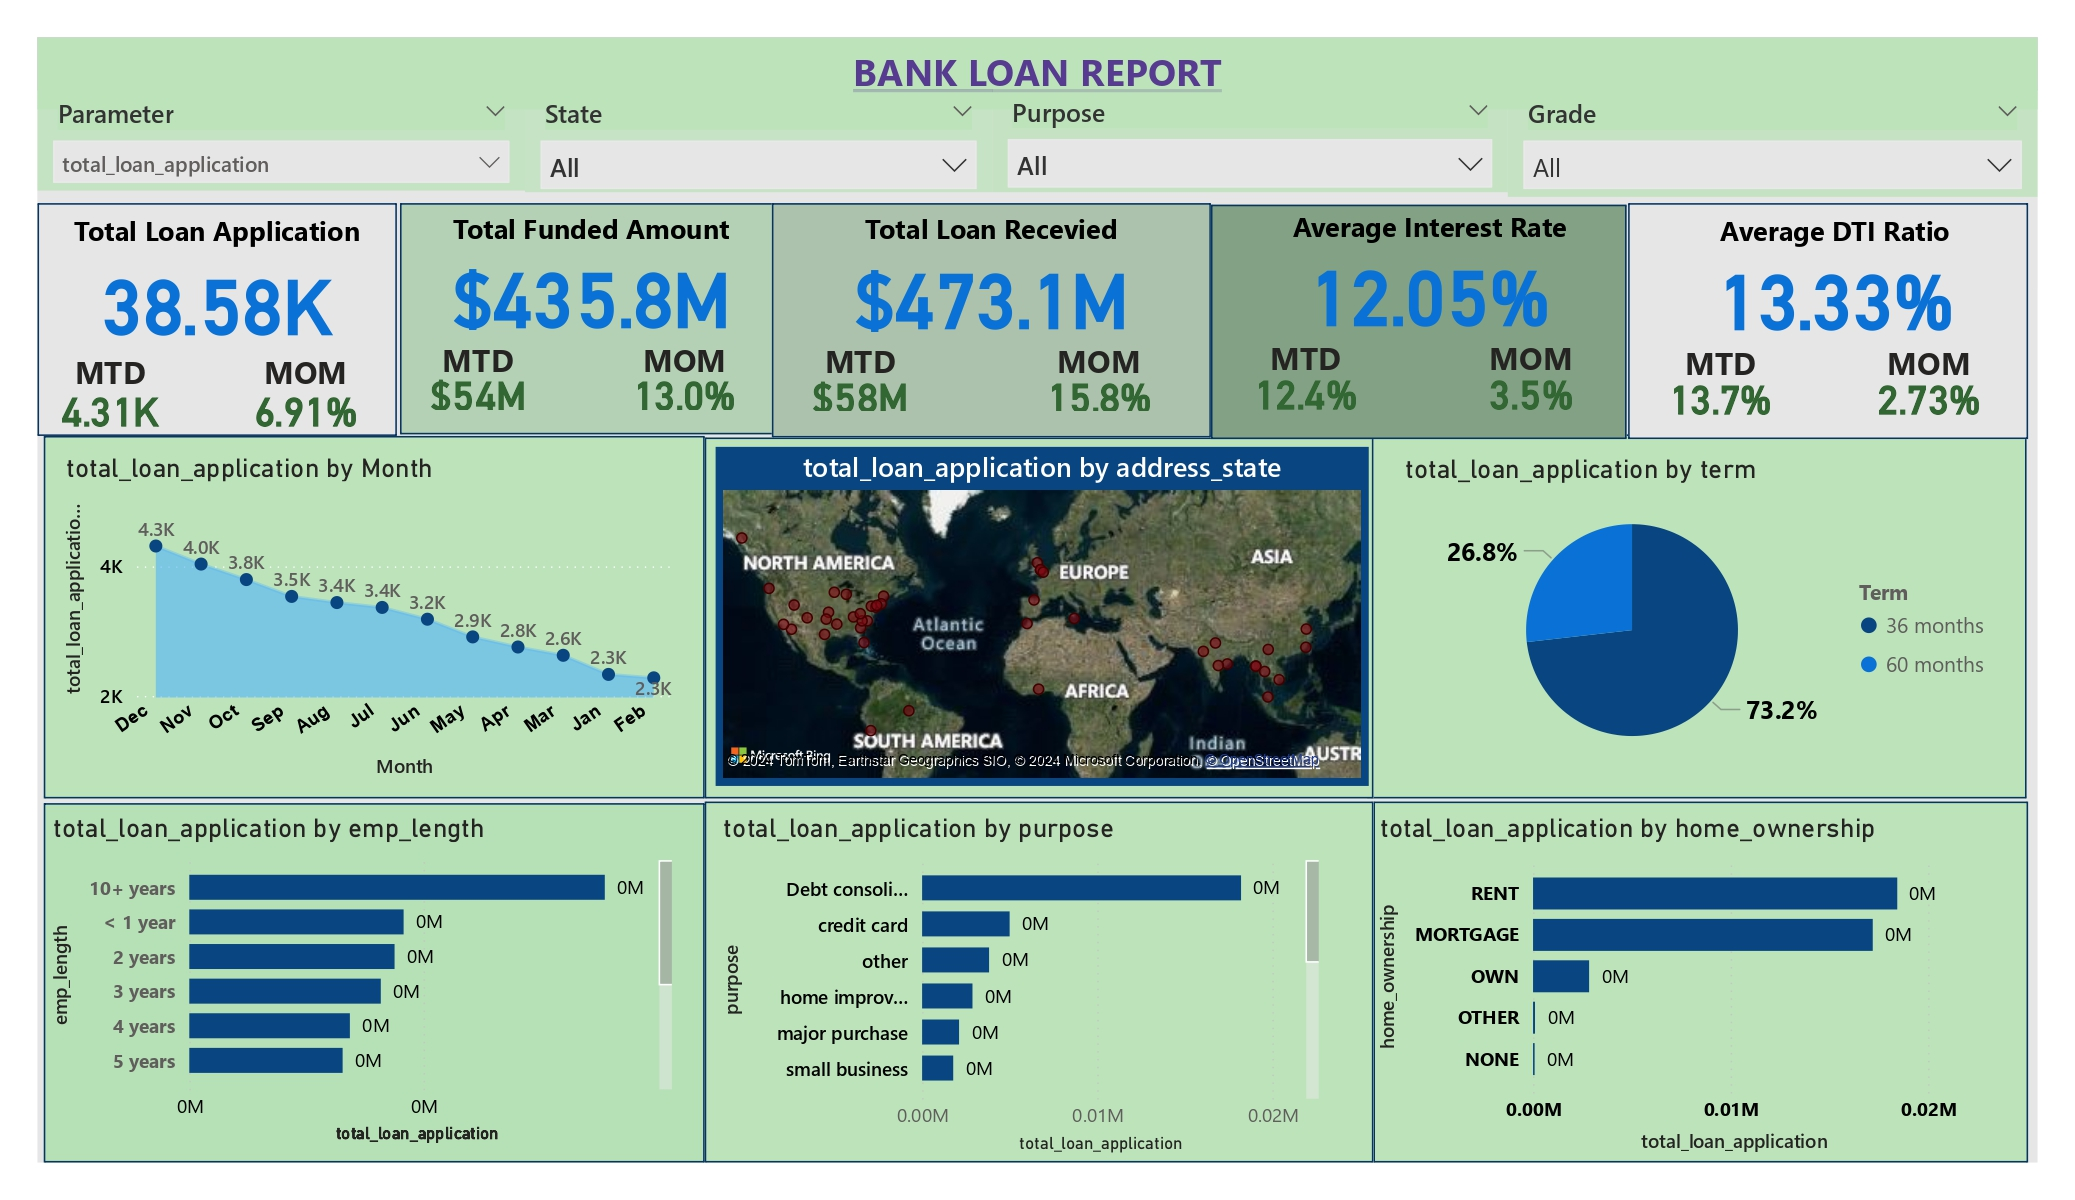

This screenshot's page, from the dashboard's own definition file:
{"tool":"powerbi","page":{"name":"Overview","canvas":[1280,720],"ordinal":1},"visuals":[{"type":"textbox","box":[0,0,1280.3,45.6],"z":0},{"type":"slicer","fields":{"Values":["Parameter.Parameter"]},"box":[0,32.2,311.9,65.5],"z":0,"group":"g3"},{"type":"group","id":"g1","title":"Group 7","box":[0,105.5,1274.6,614.1],"z":0,"group":"g2"},{"type":"shape","box":[0,105.5,229.9,149.5],"z":0,"group":"g4"},{"type":"shape","box":[851.4,253.7,421.6,233.2],"z":0,"group":"g8"},{"type":"group","id":"g2","title":"Group 9","box":[0,31.6,1280.3,688.1],"z":1000},{"type":"group","id":"g3","title":"Group 8","box":[0,31.6,1280.3,70.3],"z":1000,"group":"g2"},{"type":"shape","box":[232.1,105.5,242.8,148.4],"z":1000,"group":"g5"},{"type":"shape","box":[427.1,255.6,427.7,230.6],"z":1000,"group":"g8"},{"type":"shape","box":[470,105.5,280.9,149.5],"z":2000,"group":"g7"},{"type":"shape","box":[854.8,488.9,418.9,230.6],"z":2000,"group":"g8"},{"type":"shape","box":[750.5,106.9,266.3,149.5],"z":3000,"group":"g9"},{"type":"shape","box":[427.1,488.9,427.7,230.6],"z":3000,"group":"g8"},{"type":"shape","box":[1018.2,105.6,256.3,151],"z":4000,"group":"g6"},{"type":"shape","box":[3.7,489.1,423.3,230.6],"z":4000,"group":"g8"},{"type":"card","title":"Total Loan Application","fields":{"Values":["bank_loan_data.total_loan_application"]},"box":[10.4,110.1,209.9,89.1],"z":5000,"group":"g4"},{"type":"shape","box":[3.7,254.4,423.3,231.9],"z":5000,"group":"g8"},{"type":"slicer","fields":{"Values":["bank_loan_data.address_state"]},"box":[311.9,32.2,299.1,66.9],"z":6000,"group":"g3"},{"type":"group","id":"g4","title":"Group 1","box":[0,105.5,229.3,149.5],"z":6000,"group":"g8"},{"type":"card","title":"Total Funded Amount","fields":{"Values":["bank_loan_data.Total_fund_amount"]},"box":[243.9,109.7,221.6,82],"z":6000,"group":"g5"},{"type":"slicer","fields":{"Values":["bank_loan_data.grade"]},"box":[941.3,32.2,338.9,69.8],"z":7000,"group":"g3"},{"type":"group","id":"g5","title":"Group 2","box":[232.1,105.5,242.1,148.1],"z":7000,"group":"g8"},{"type":"card","title":"Total Loan Recevied","fields":{"Values":["bank_loan_data.Total_Amount_Recevied"]},"box":[482.1,109.8,256.7,82.6],"z":7000,"group":"g7"},{"type":"slicer","fields":{"Values":["bank_loan_data.purpose"]},"box":[610.9,31.6,330.4,66.9],"z":8000,"group":"g3"},{"type":"group","id":"g6","title":"Group 5","box":[1018.2,105.6,256.3,151],"z":8000,"group":"g8"},{"type":"card","title":"Average Interest Rate","fields":{"Values":["bank_loan_data.Average_interst_rate"]},"box":[768.8,108.6,243.4,82.6],"z":8000,"group":"g9"},{"type":"group","id":"g7","title":"Group 3","box":[470,105.5,280.6,149.5],"z":9000,"group":"g8"},{"type":"card","title":"Average DTI Ratio","fields":{"Values":["bank_loan_data.Average_DTI_Ratio"]},"box":[1038.2,110.3,224.6,83.4],"z":9000,"group":"g6"},{"type":"group","id":"g8","title":"Group 6","box":[0,105.5,1274.6,614.1],"z":9500,"group":"g1"},{"type":"card","title":"MTD","fields":{"Values":["bank_loan_data.MTD"]},"box":[0.5,199.2,92.6,55.3],"z":10000,"group":"g4"},{"type":"group","id":"g9","title":"Group 4","box":[750.5,106.9,266.3,149.5],"z":11000,"group":"g8"},{"type":"card","title":"MTD","fields":{"Values":["bank_loan_data.MTD_Funded_Amount"]},"box":[233.4,191.7,97.8,50.9],"z":11000,"group":"g5"},{"type":"card","title":"MTD","fields":{"Values":["bank_loan_data.MTD Loan_recevied"]},"box":[470,192.4,113.3,51.3],"z":12000,"group":"g7"},{"type":"lineChart","fields":{"Y":["bank_loan_data.total_loan_application"],"Category":["Date_Table.Month"]},"box":[13,264.8,398.3,213.9],"z":12000,"group":"g1"},{"type":"card","title":"MTD","fields":{"Values":["bank_loan_data.MTD_Average_Rate"]},"box":[757.3,191.2,107.4,51.3],"z":13000,"group":"g9"},{"type":"card","title":"MTD","fields":{"Values":["bank_loan_data.MTD_DTI_Ratio"]},"box":[1027.6,193.7,99.1,51.8],"z":14000,"group":"g6"},{"type":"map","fields":{"Y":["bank_loan_data.total_loan_application"],"Category":["bank_loan_data.address_state"]},"box":[433.9,262,418.2,216.7],"z":14000,"group":"g1"},{"type":"card","title":"MOM","fields":{"Values":["bank_loan_data.MOM_Loan_Application"]},"box":[125.2,199.2,92.6,55.3],"z":15000,"group":"g4"},{"type":"pieChart","fields":{"Y":["bank_loan_data.total_loan_application"],"Category":["bank_loan_data.term"]},"box":[870.5,265.2,389.6,209.2],"z":15000,"group":"g1"},{"type":"card","title":"MOM","fields":{"Values":["bank_loan_data.MOM_Total_Funded_Amount"]},"box":[365.1,191.7,97.8,50.9],"z":16000,"group":"g5"},{"type":"barChart","fields":{"Y":["bank_loan_data.total_loan_application"],"Category":["bank_loan_data.purpose"]},"box":[434.3,495.2,391.1,223.5],"z":16000,"group":"g1"},{"type":"card","title":"MOM","fields":{"Values":["bank_loan_data.MOM_Total_loan_recevied"]},"box":[622.5,192.4,113.3,51.3],"z":17000,"group":"g7"},{"type":"barChart","fields":{"Y":["bank_loan_data.total_loan_application"],"Category":["bank_loan_data.emp_length"]},"box":[4.7,496,406.7,216],"z":17000,"group":"g1"},{"type":"card","title":"MOM","fields":{"Values":["bank_loan_data.MOM_Average_Interest_Rate"]},"box":[901.9,191.2,107.4,51.3],"z":18000,"group":"g9"},{"type":"barChart","fields":{"Y":["bank_loan_data.total_loan_application"],"Category":["bank_loan_data.home_ownership"]},"box":[854.1,495.2,388.2,223.5],"z":18000,"group":"g1"},{"type":"card","title":"MOM","fields":{"Values":["bank_loan_data.MOM_DTI_Ratio"]},"box":[1161.1,193.7,99.1,51.8],"z":19000,"group":"g6"}]}

Visuals, with their boxes on the page's 1280x720 design canvas (x1, y1, x2, y2). These are canvas units, not pixel positions in the 2075x1200 screenshot, which may show the page scaled, cropped or inside an application window:
textbox: region(0, 0, 1280, 46)
slicer - Parameter.Parameter: region(0, 32, 312, 98)
"Group 7" group: region(0, 106, 1275, 720)
shape: region(0, 106, 230, 255)
shape: region(851, 254, 1273, 487)
"Group 9" group: region(0, 32, 1280, 720)
"Group 8" group: region(0, 32, 1280, 102)
shape: region(232, 106, 475, 254)
shape: region(427, 256, 855, 486)
shape: region(470, 106, 751, 255)
shape: region(855, 489, 1274, 720)
shape: region(750, 107, 1017, 256)
shape: region(427, 489, 855, 720)
shape: region(1018, 106, 1274, 257)
shape: region(4, 489, 427, 720)
"Total Loan Application" card: region(10, 110, 220, 199)
shape: region(4, 254, 427, 486)
slicer - bank_loan_data.address_state: region(312, 32, 611, 99)
"Group 1" group: region(0, 106, 229, 255)
"Total Funded Amount" card: region(244, 110, 466, 192)
slicer - bank_loan_data.grade: region(941, 32, 1280, 102)
"Group 2" group: region(232, 106, 474, 254)
"Total Loan Recevied" card: region(482, 110, 739, 192)
slicer - bank_loan_data.purpose: region(611, 32, 941, 98)
"Group 5" group: region(1018, 106, 1274, 257)
"Average Interest Rate" card: region(769, 109, 1012, 191)
"Group 3" group: region(470, 106, 751, 255)
"Average DTI Ratio" card: region(1038, 110, 1263, 194)
"Group 6" group: region(0, 106, 1275, 720)
"MTD" card: region(0, 199, 93, 254)
"Group 4" group: region(750, 107, 1017, 256)
"MTD" card: region(233, 192, 331, 243)
"MTD" card: region(470, 192, 583, 244)
lineChart - bank_loan_data.total_loan_application x Date_Table.Month: region(13, 265, 411, 479)
"MTD" card: region(757, 191, 865, 242)
"MTD" card: region(1028, 194, 1127, 246)
map - bank_loan_data.total_loan_application x bank_loan_data.address_state: region(434, 262, 852, 479)
"MOM" card: region(125, 199, 218, 254)
pieChart - bank_loan_data.total_loan_application x bank_loan_data.term: region(870, 265, 1260, 474)
"MOM" card: region(365, 192, 463, 243)
barChart - bank_loan_data.total_loan_application x bank_loan_data.purpose: region(434, 495, 825, 719)
"MOM" card: region(622, 192, 736, 244)
barChart - bank_loan_data.total_loan_application x bank_loan_data.emp_length: region(5, 496, 411, 712)
"MOM" card: region(902, 191, 1009, 242)
barChart - bank_loan_data.total_loan_application x bank_loan_data.home_ownership: region(854, 495, 1242, 719)
"MOM" card: region(1161, 194, 1260, 246)
